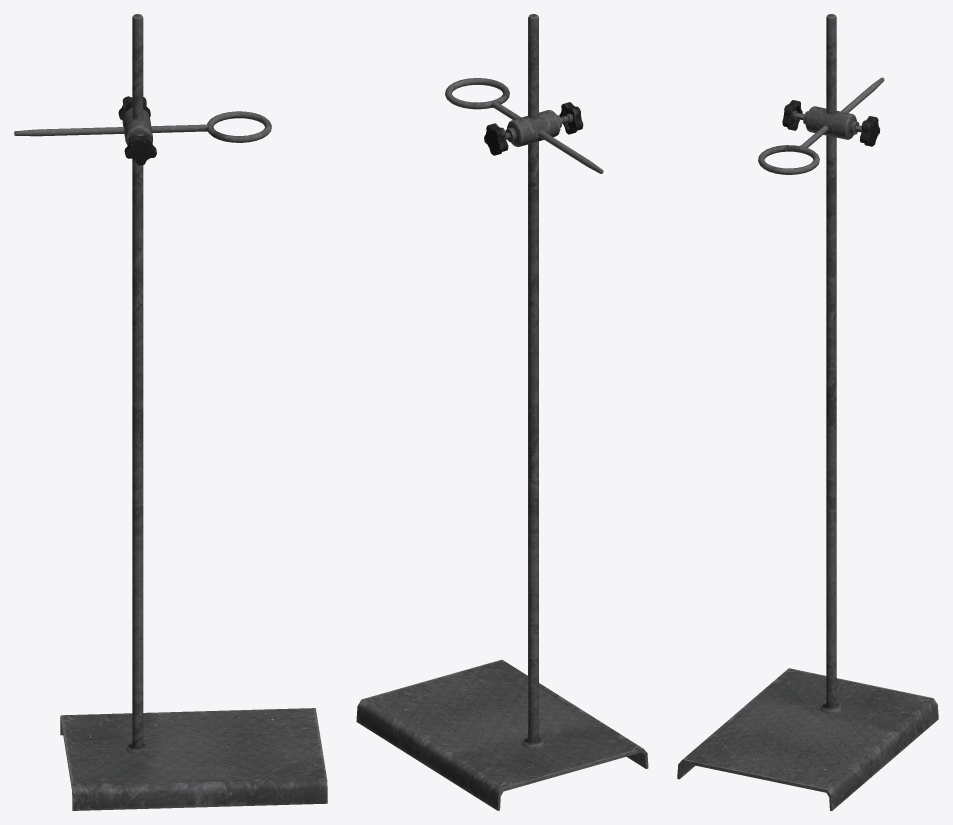
File: LabTripod.fbx
3 renders of one model, left to right at view 1: azimuth 30°, elevation 25°; view 2: azimuth 150°, elevation 25°; view 3: azimuth 270°, elevation 25°, orthographic. The views are drawn at different scales.
Visible parts, largest first — view 1: Object_74.001, Object_78.001, Object_76.001; view 2: Object_74.001, Object_76.001, Object_78.001; view 3: Object_74.001, Object_76.001, Object_78.001.
Boxes of the visible parts, x1,y1,x2,y2 form: Object_74.001: (60,14,327,810); Object_78.001: (14,111,271,142); Object_76.001: (118,96,156,165); Object_74.001: (356,14,648,810); Object_76.001: (484,102,583,155); Object_78.001: (445,78,603,173); Object_74.001: (677,14,938,810); Object_76.001: (782,100,880,146); Object_78.001: (758,77,884,174).
Bounding box in the file's own units: 22.75 × 59.69 × 19.84.
